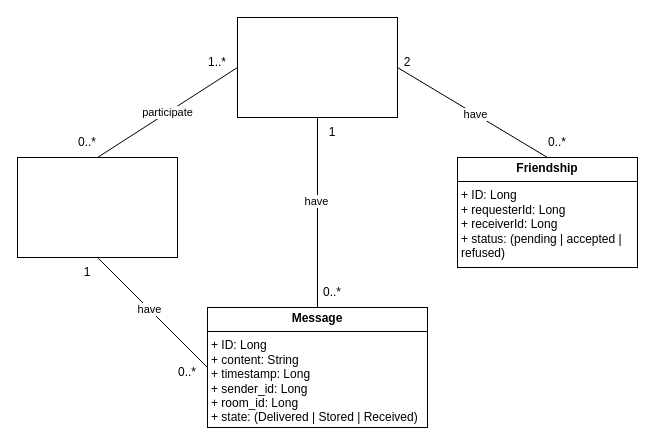
Some shapes in this 655 by 445 pixel diagram are drawn without their labels. The shapes that lost their labels are listed below. From the top down, each one's centre as x and y in pixels, then its label:
At point 317,67: "User + ID: Long + username: String + name: String + profilePicture: String".
At point 97,207: "Room + ID: Long + name: String + picture: String + type: (direct | group)".
